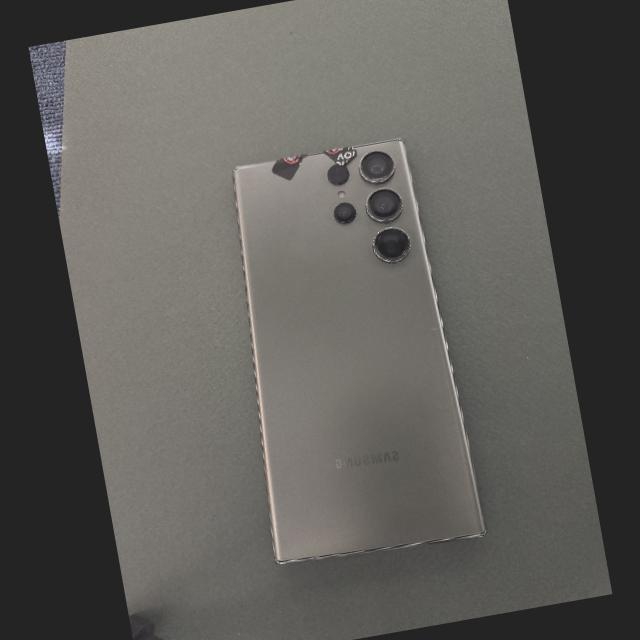lens: (372, 228, 408, 262), (359, 150, 393, 183), (366, 188, 400, 221), (328, 165, 346, 184)
phone: (233, 139, 486, 562)
sticker: (272, 156, 303, 180), (322, 145, 356, 165)
